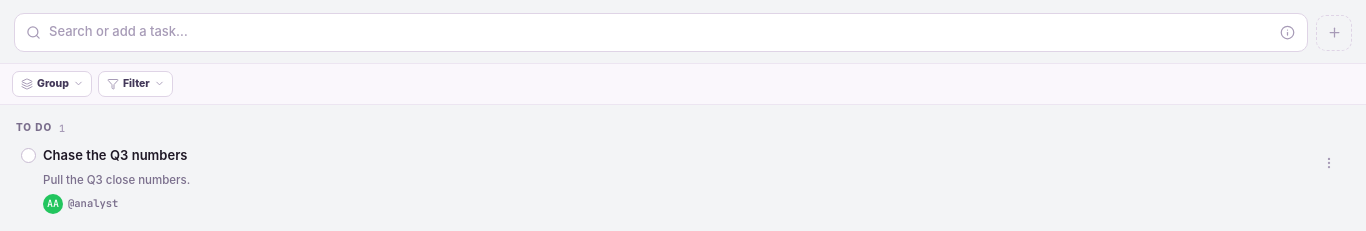
Test: TodoRail inline rename › Esc writes nothing and restores the original title
Click the button titled "Click to rename".
click(115, 156)  # box [43,147,187,165]
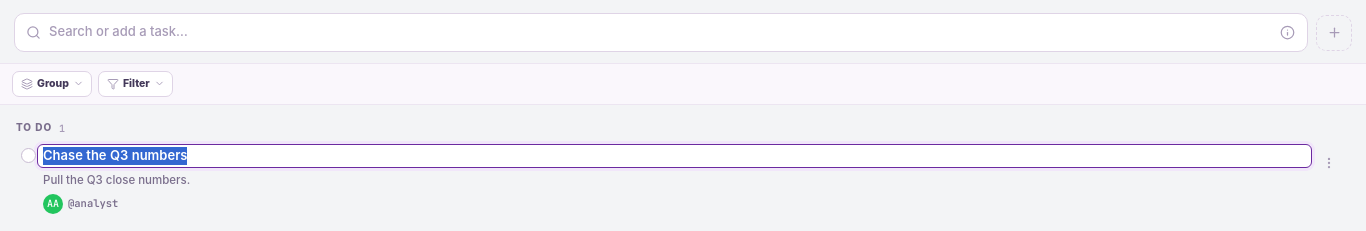
Replace the text in the field named "Task title" with "throw this away" at (674, 156), box [37,144,1312,168]
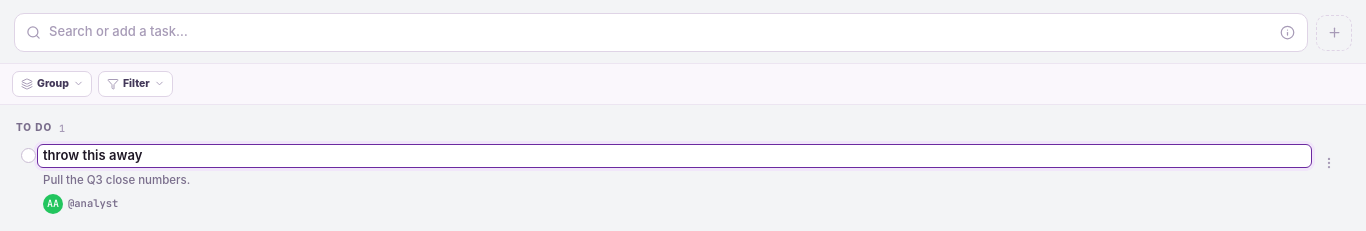
Press Escape in the field named "Task title", box [37,144,1312,168]
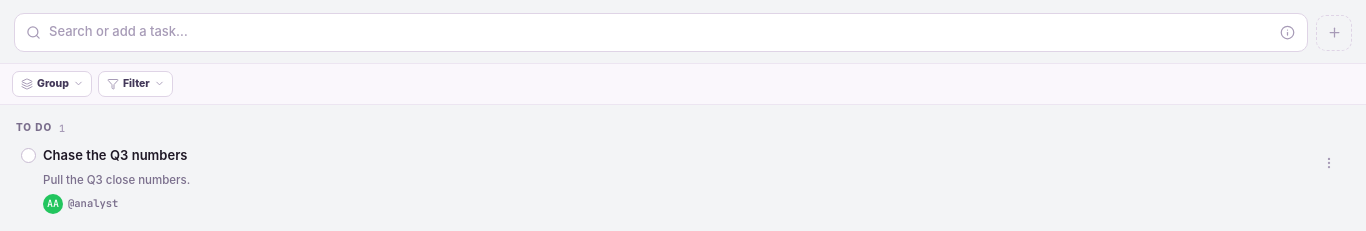
Check: the button "Chase the Q3 numbers" is shown, box [43,147,187,165]
